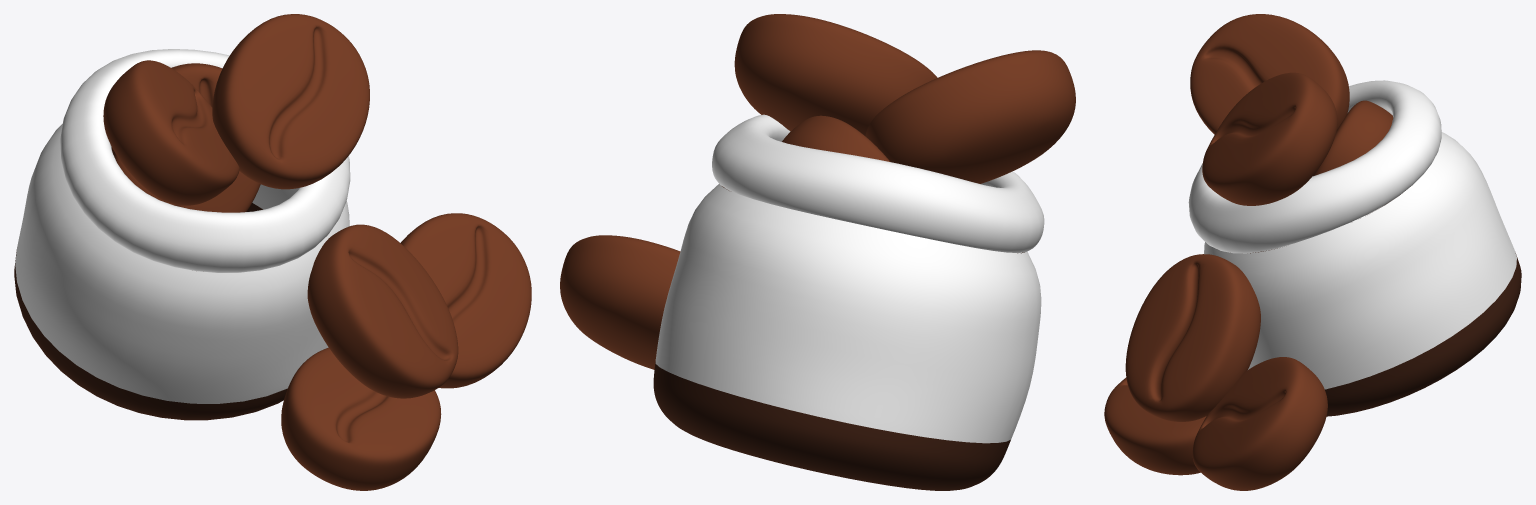
The model's file is Coffee-Pack.glb.
3 renders of one model, left to right at view 1: azimuth 30°, elevation 25°; view 2: azimuth 150°, elevation 25°; view 3: azimuth 270°, elevation 25°, orthographic. The views are drawn at different scales.
Visible parts, largest first — view 1: Circle.078, Cube.044, Cube.047, Cube.046, Cube.045, Cube.003, Cube.035; view 2: Circle.078, Cube.003, Cube.044, Cube.045, Cube.035; view 3: Circle.078, Cube.047, Cube.044, Cube.045, Cube.003, Cube.046, Cube.035.
Part boxes in pixels (bbox=[...]): Circle.078: bbox=[14, 49, 350, 420]; Cube.044: bbox=[212, 14, 369, 189]; Cube.047: bbox=[307, 224, 458, 398]; Cube.046: bbox=[281, 347, 441, 490]; Cube.045: bbox=[400, 213, 531, 388]; Cube.003: bbox=[103, 60, 239, 205]; Cube.035: bbox=[111, 63, 260, 212]; Circle.078: bbox=[653, 114, 1044, 490]; Cube.003: bbox=[865, 50, 1075, 183]; Cube.044: bbox=[734, 14, 937, 136]; Cube.045: bbox=[560, 235, 680, 369]; Cube.035: bbox=[782, 115, 890, 161]; Circle.078: bbox=[1188, 80, 1521, 416]; Cube.047: bbox=[1125, 254, 1260, 421]; Cube.044: bbox=[1202, 72, 1337, 205]; Cube.045: bbox=[1192, 357, 1327, 490]; Cube.003: bbox=[1190, 14, 1349, 134]; Cube.046: bbox=[1104, 377, 1206, 475]; Cube.035: bbox=[1313, 100, 1393, 176].
Size of the model in its own units: 4.91 by 4.43 by 4.49.
